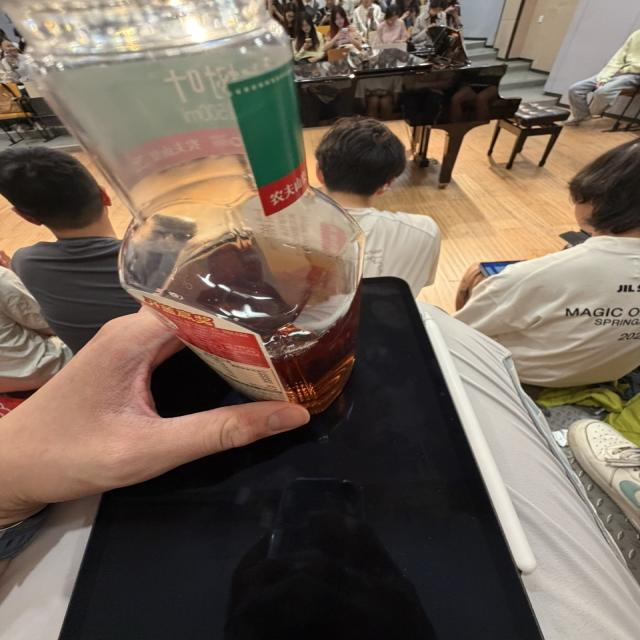medium: (37, 0, 364, 412)
